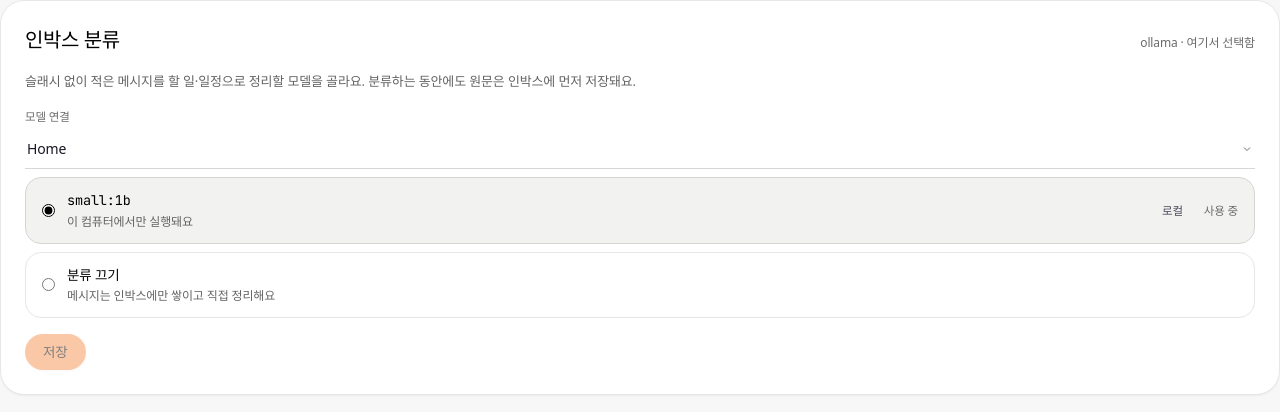
provider select lists only ollama providers
The width and height of the screenshot is (1280, 412).
Step 1. Click the button named "모델 연결" → click(47, 149), box [25,129,1255,169]
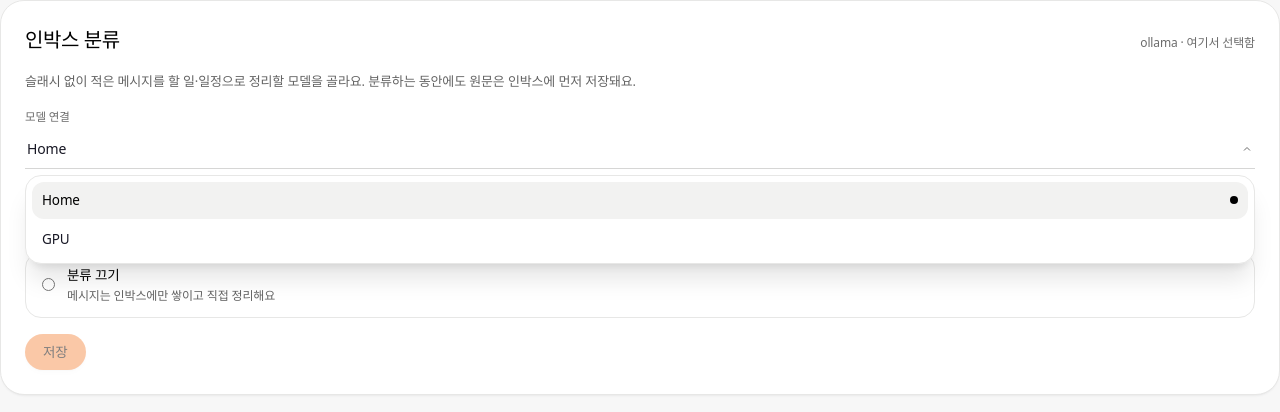
expect the options read "Home", "GPU", in this order: met, box [32,182,1248,219]; [42,230,70,248]
